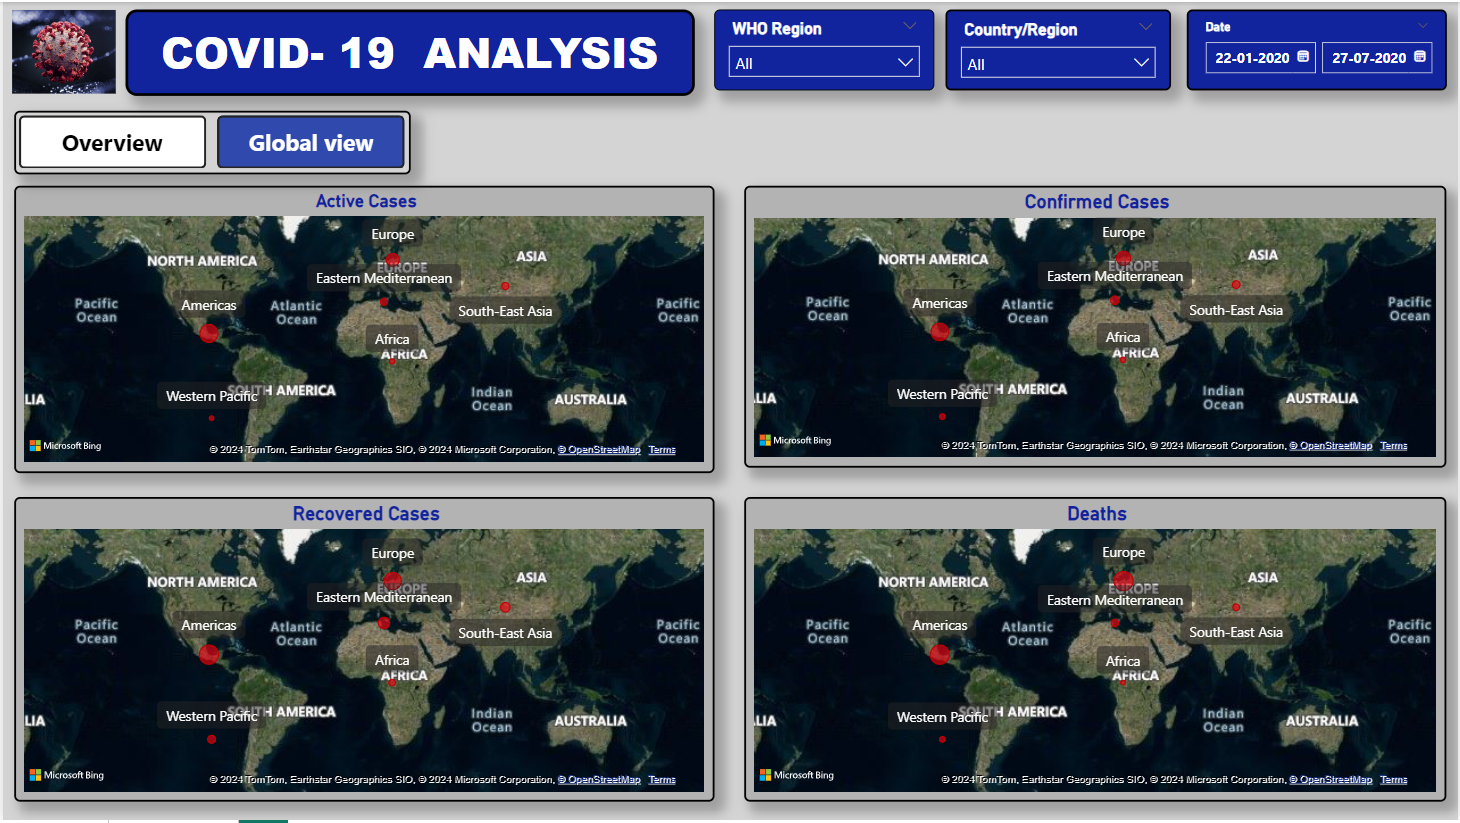

This screenshot's page, from the dashboard's own definition file:
{"tool":"powerbi","page":{"name":"Global view","canvas":[1280,720],"ordinal":1},"visuals":[{"type":"map","title":"Active Cases","fields":{"Category":["covid_19_clean_complete.WHO Region"],"Size":["Sum(covid_19_clean_complete.Active)"]},"box":[10.1,161.6,616.1,252.5],"z":0},{"type":"map","title":"Confirmed Cases","fields":{"Category":["covid_19_clean_complete.WHO Region"],"Size":["Sum(covid_19_clean_complete.Confirmed)"]},"box":[652.1,161.6,617.5,248.2],"z":1000},{"type":"map","title":"Deaths","fields":{"Category":["covid_19_clean_complete.WHO Region"],"Size":["Sum(covid_19_clean_complete.Deaths)"]},"box":[652.1,435.7,617.5,268.4],"z":2000},{"type":"map","title":"Recovered Cases","fields":{"Category":["covid_19_clean_complete.WHO Region"],"Size":["Sum(covid_19_clean_complete.Recovered)"]},"box":[10.1,435.7,616.1,268.4],"z":3000},{"type":"textbox","box":[107.7,6.1,501.1,76.3],"z":6000},{"type":"slicer","fields":{"Values":["covid_19_clean_complete.WHO Region"]},"box":[625.8,6.1,193.7,71.4],"z":7000},{"type":"slicer","fields":{"Values":["covid_19_clean_complete.Country/Region"]},"box":[829.2,6.1,198.5,71.4],"z":7001},{"type":"slicer","fields":{"Values":["covid_19_clean_complete.Date"]},"box":[1041,6.1,228.8,71.4],"z":7002},{"type":"image","box":[0,2.4,107.7,83.5],"z":7003},{"type":"pageNavigator","box":[9.7,95.6,348.6,55.7],"z":7004}]}

Visuals, with their boxes in screenshot pixels (x1, y1, x2, y2), scaled from the page's 1280x720 canvas onto the 1460x823 screenshot:
"Active Cases" map: <bbox>12, 185, 714, 473</bbox>
"Confirmed Cases" map: <bbox>744, 185, 1448, 468</bbox>
"Deaths" map: <bbox>744, 498, 1448, 805</bbox>
"Recovered Cases" map: <bbox>12, 498, 714, 805</bbox>
textbox: <bbox>123, 7, 694, 94</bbox>
slicer - covid_19_clean_complete.WHO Region: <bbox>714, 7, 935, 89</bbox>
slicer - covid_19_clean_complete.Country/Region: <bbox>946, 7, 1172, 89</bbox>
slicer - covid_19_clean_complete.Date: <bbox>1187, 7, 1448, 89</bbox>
image: <bbox>0, 3, 123, 98</bbox>
pageNavigator: <bbox>11, 109, 409, 173</bbox>
